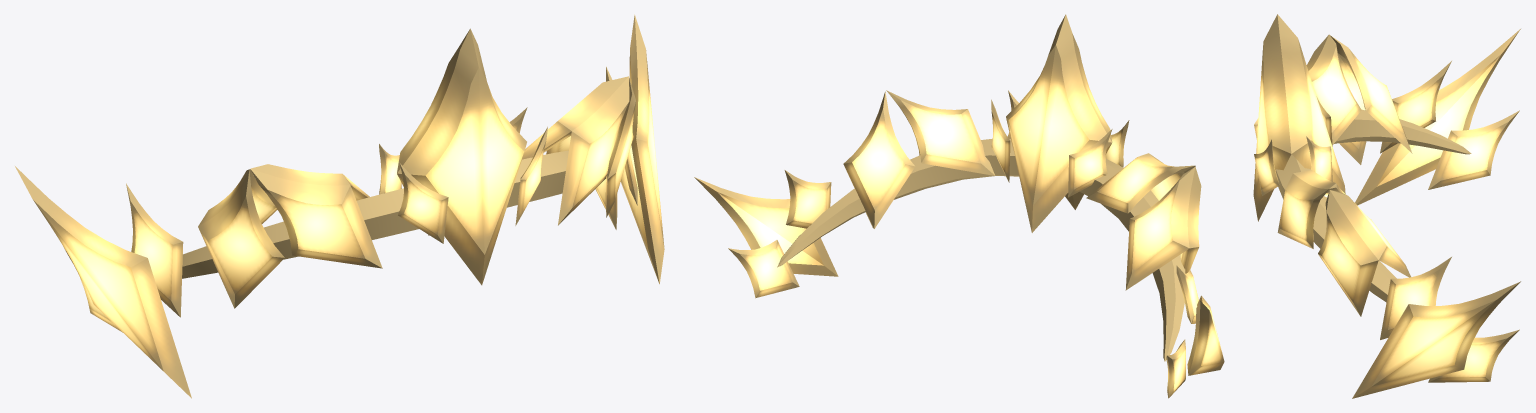
Rendered from Conviction Curve.fbx.
3 views of the same model, side by side, from view 1: azimuth 30°, elevation 25°; view 2: azimuth 150°, elevation 25°; view 3: azimuth 270°, elevation 25° (orthographic). The views are drawn at different scales.
Visible parts, largest first — view 1: Conviction Curve; view 2: Conviction Curve; view 3: Conviction Curve.
Boxes of the visible parts, <box> form: Conviction Curve: <box>15,14,664,398</box>; Conviction Curve: <box>694,14,1224,398</box>; Conviction Curve: <box>1253,14,1520,398</box>.
Bounding box in the file's own units: 0.2209 × 0.1178 × 0.0988.
